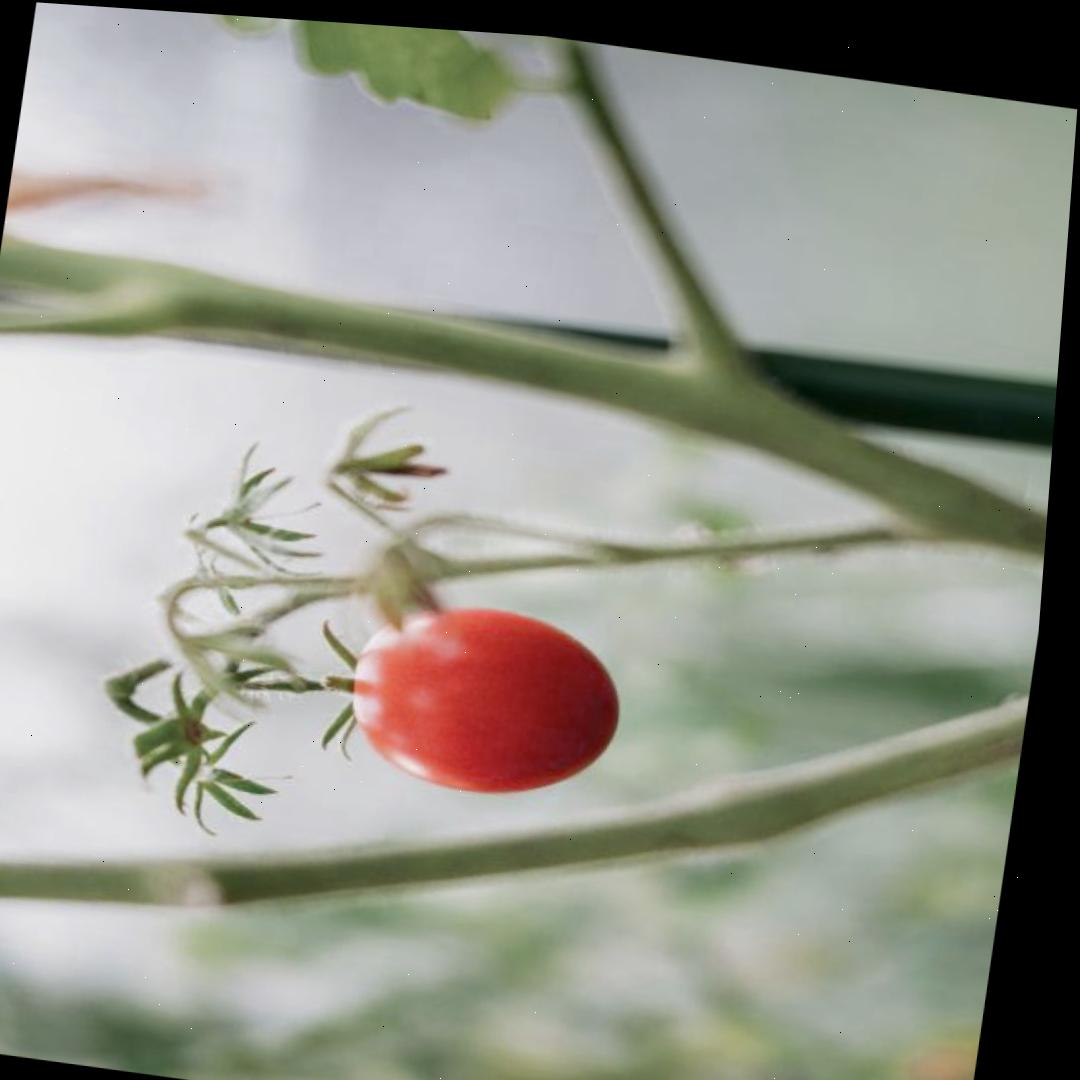setengah_matang: (335, 589, 638, 812)
